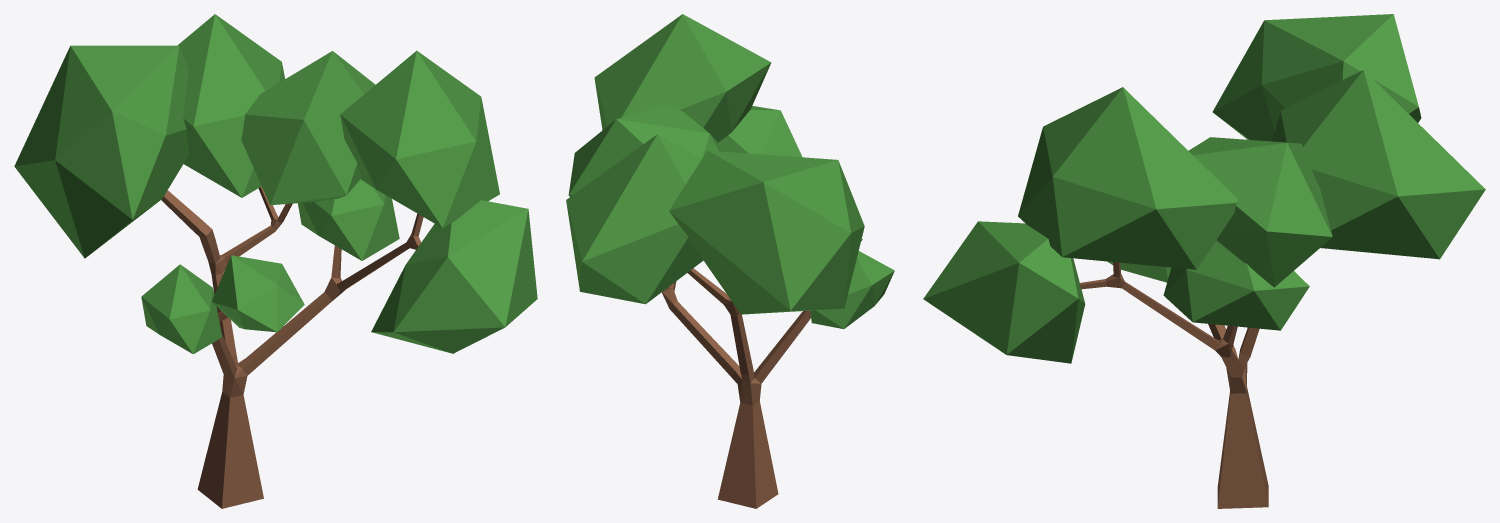
The model's file is tree.glb.
3 renders of one model, left to right at view 1: azimuth 30°, elevation 25°; view 2: azimuth 150°, elevation 25°; view 3: azimuth 270°, elevation 25°, orthographic. The views are drawn at different scales.
Visible parts, largest first — view 1: Icosphere, Cube; view 2: Icosphere, Cube; view 3: Icosphere, Cube.
Part boxes in pixels (<box>): Icosphere: <box>14,14,537,354</box>; Cube: <box>161,186,423,508</box>; Icosphere: <box>566,14,894,328</box>; Cube: <box>662,268,810,508</box>; Icosphere: <box>923,14,1485,363</box>; Cube: <box>1080,262,1268,508</box>.
Bounding box in the file's own units: 12.33 × 15.18 × 16.22.
